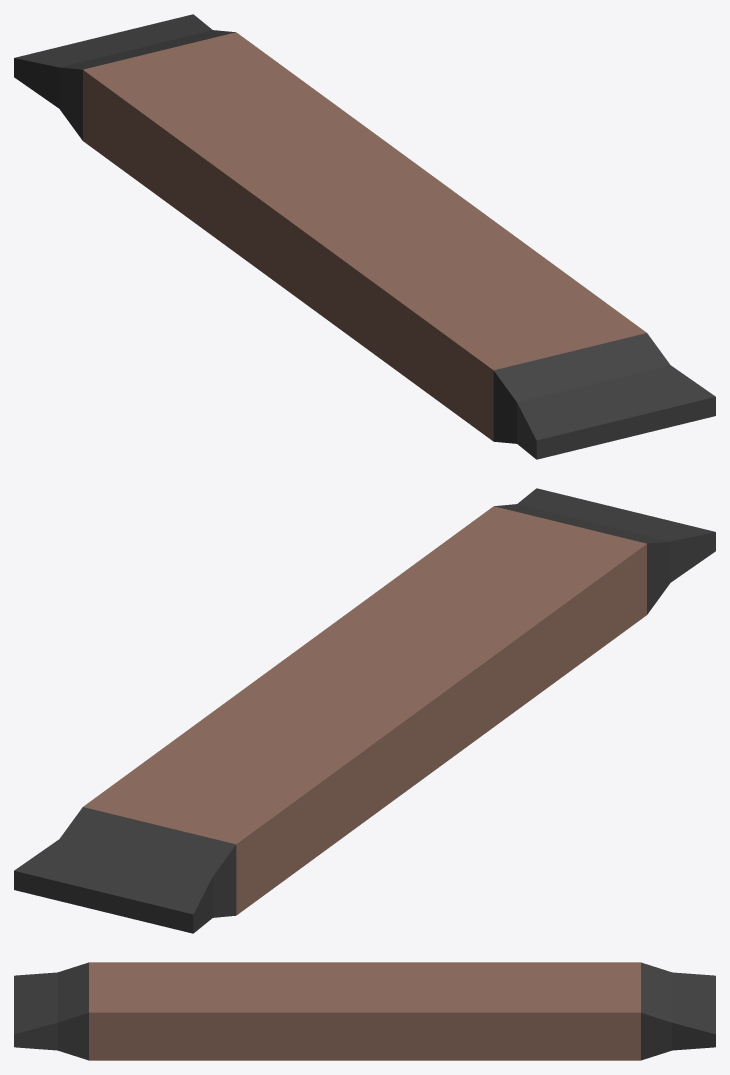
File: Snickers.fbx
The picture shows the model from 3 angles, top to bottom: view 1: azimuth 30°, elevation 25°; view 2: azimuth 150°, elevation 25°; view 3: azimuth 270°, elevation 25°; orthographic projection. The views are drawn at different scales.
Visible parts, largest first — view 1: Snickers; view 2: Snickers; view 3: Snickers.
Part boxes in pixels (x1,y1,x2,y2): Snickers: (14, 14, 715, 459); Snickers: (14, 488, 715, 933); Snickers: (14, 962, 715, 1060).
Bounding box in the file's own units: 2.41 × 0.9159 × 12.16.
